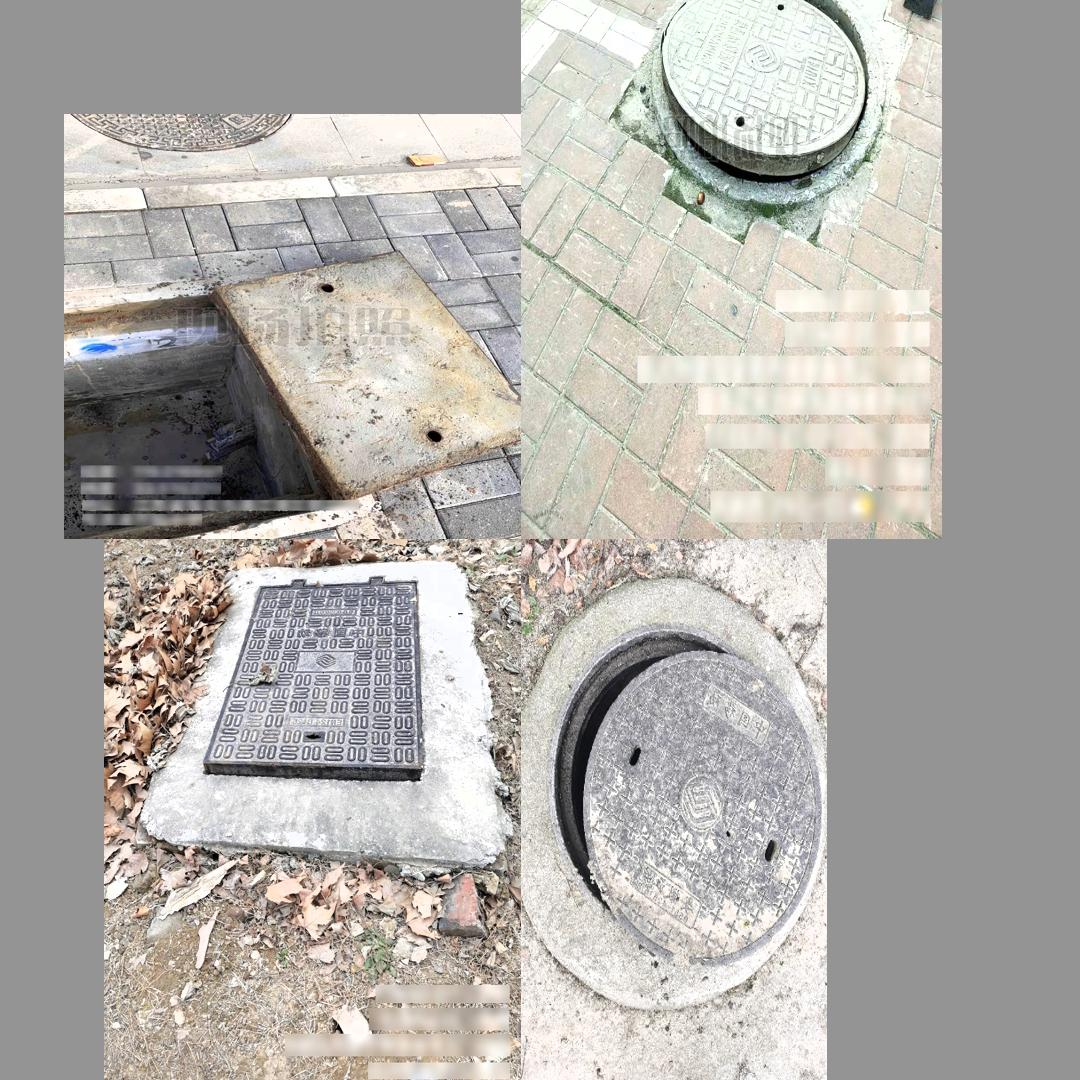uncovered: (66, 252, 521, 531), (548, 623, 822, 964), (200, 575, 426, 784), (657, 0, 882, 207)
